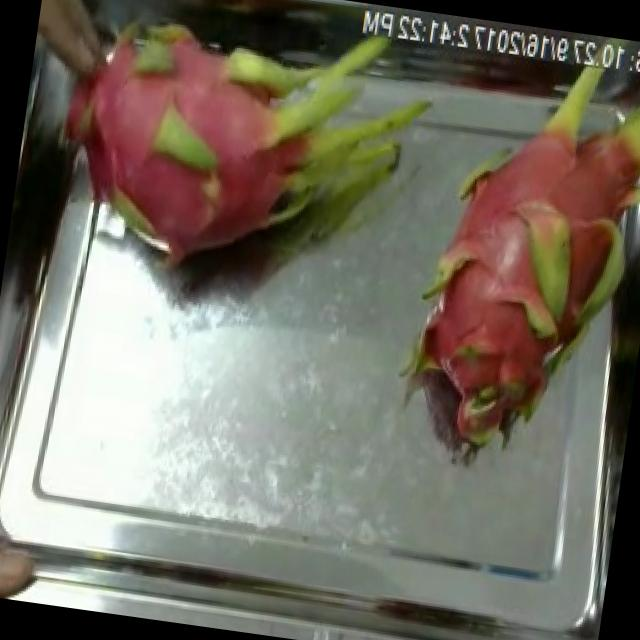Fruit: (390, 266, 575, 477), (0, 508, 51, 604)
